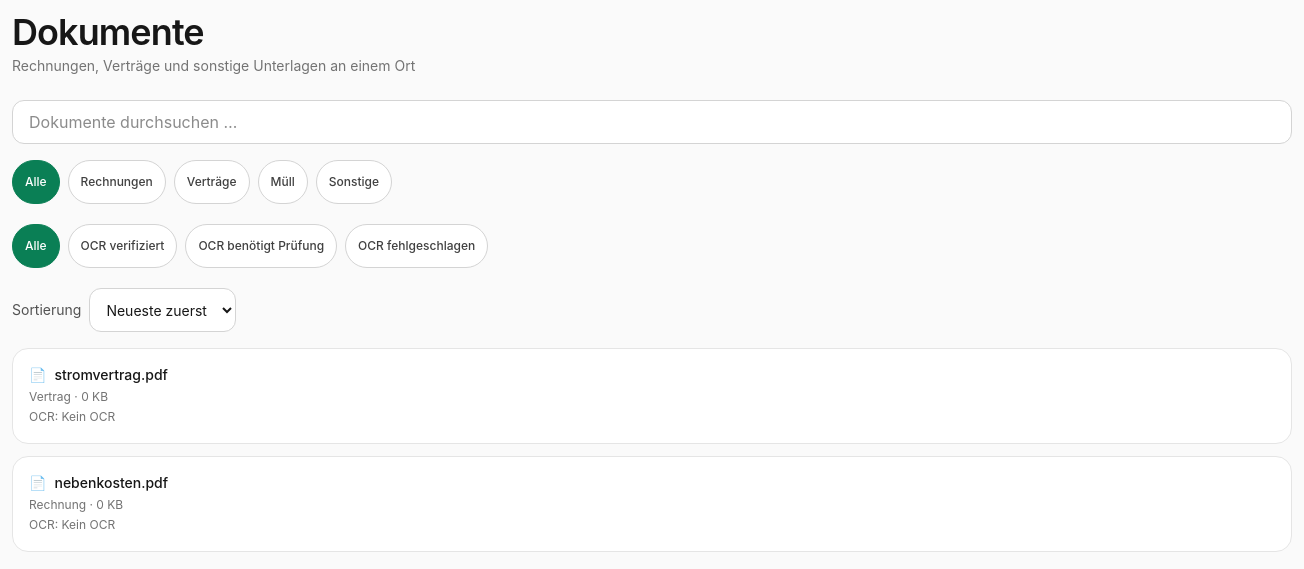
DocumentsPage › filters the list by search text
The image size is (1304, 569).
In the search field labelled "Dokumente durchsuchen": (652, 122) [12,100,1292,144], type "strom"
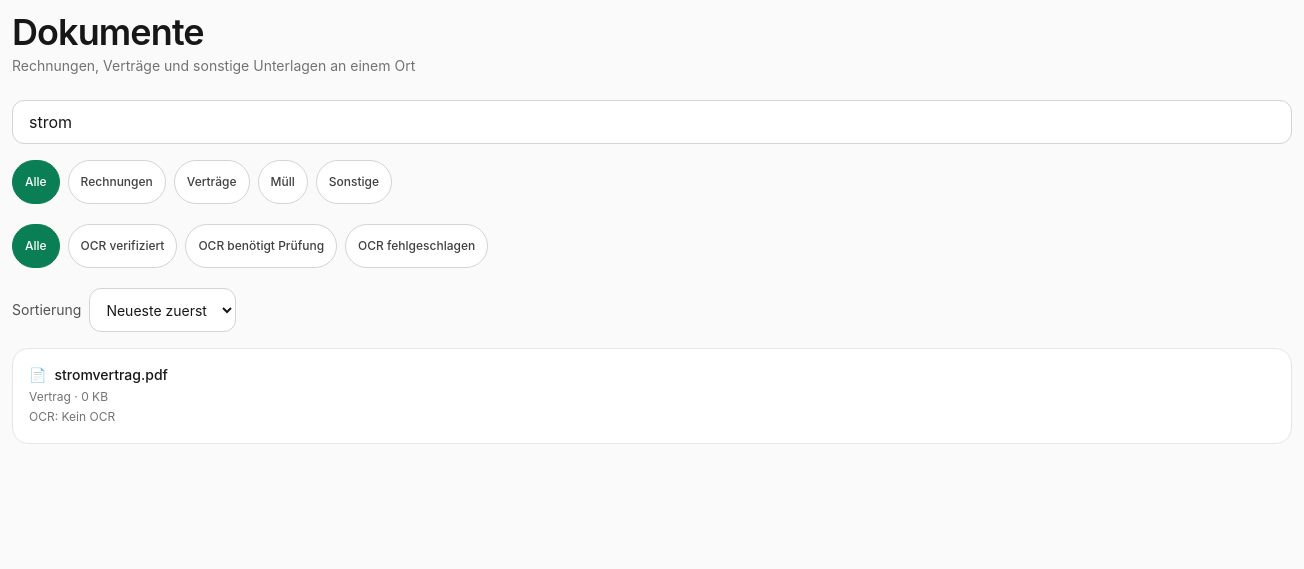
Check: the text "stromvertrag.pdf" is shown, box [54,365,168,385]
Check: the button "nebenkosten.pdf" is gone
